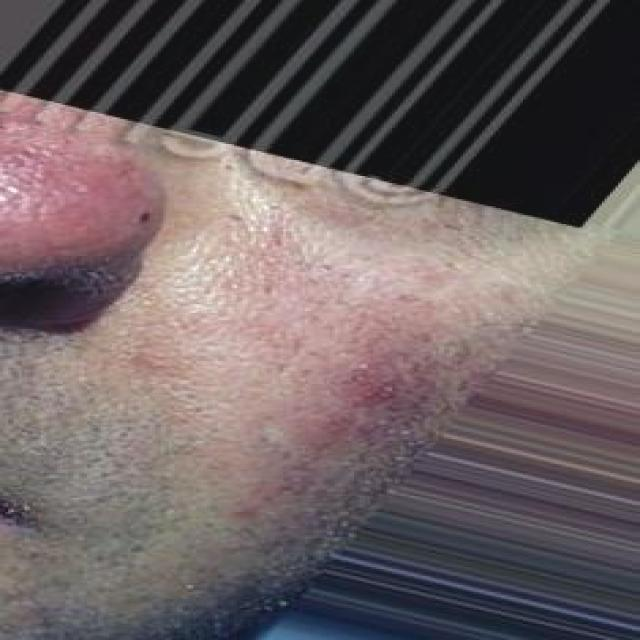Rosacea: (224, 226, 441, 507), (0, 125, 150, 256)
